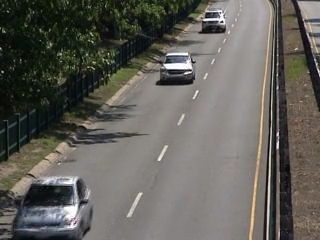car: (12, 174, 96, 236), (156, 47, 199, 90), (198, 8, 229, 36)
